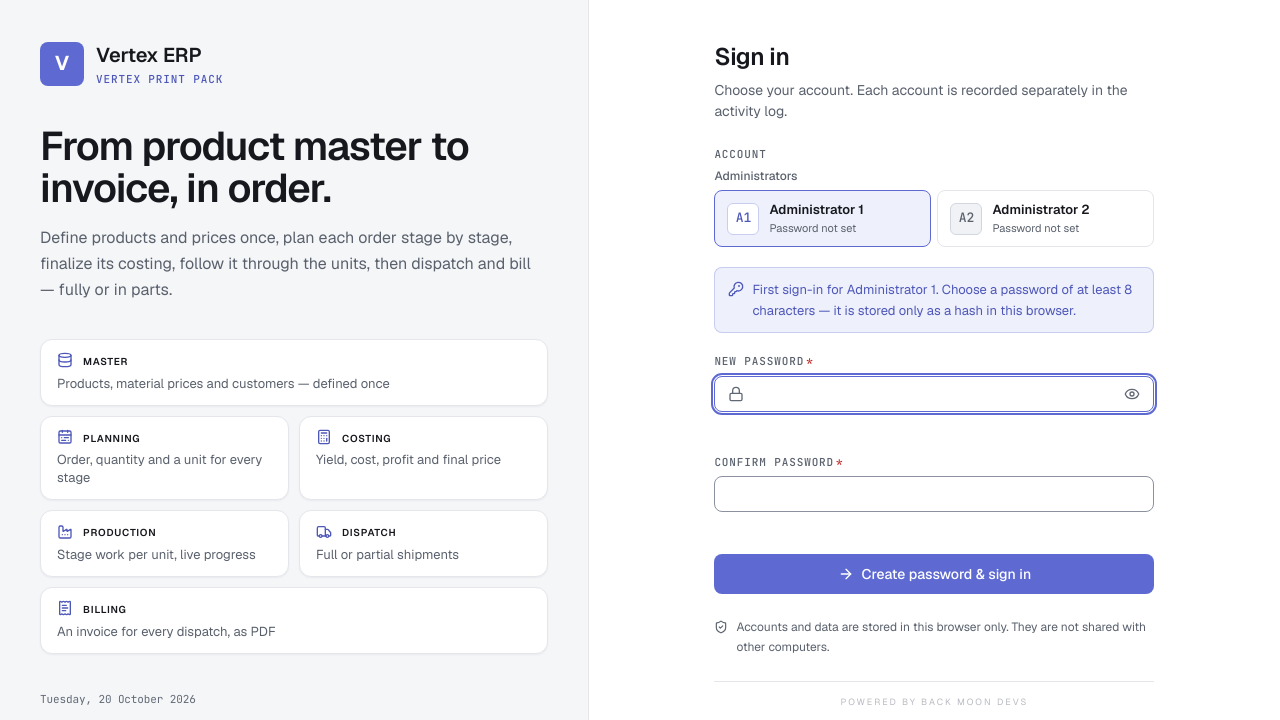
it: sign-in through the real UI › sends a signed-out visitor to sign-in and back to the requested page afterwards
Expected: the heading "Sign in" is shown, [714,41,789,72]
Click the radio button labelled "A1 Administrator 1 Password not set" at (823, 219), box [714,190,931,247]
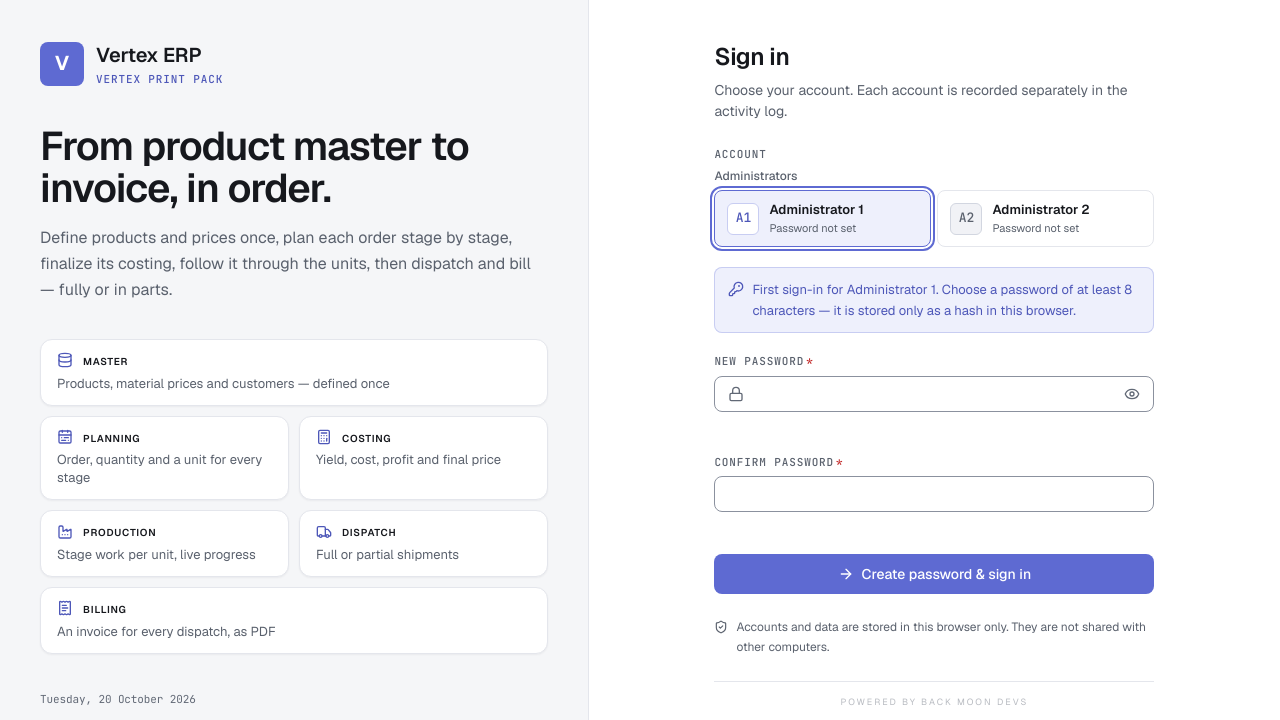
Type "disposable-test-pass-1" into the password field labelled "New password*" at (934, 394), box [714,376,1154,412]
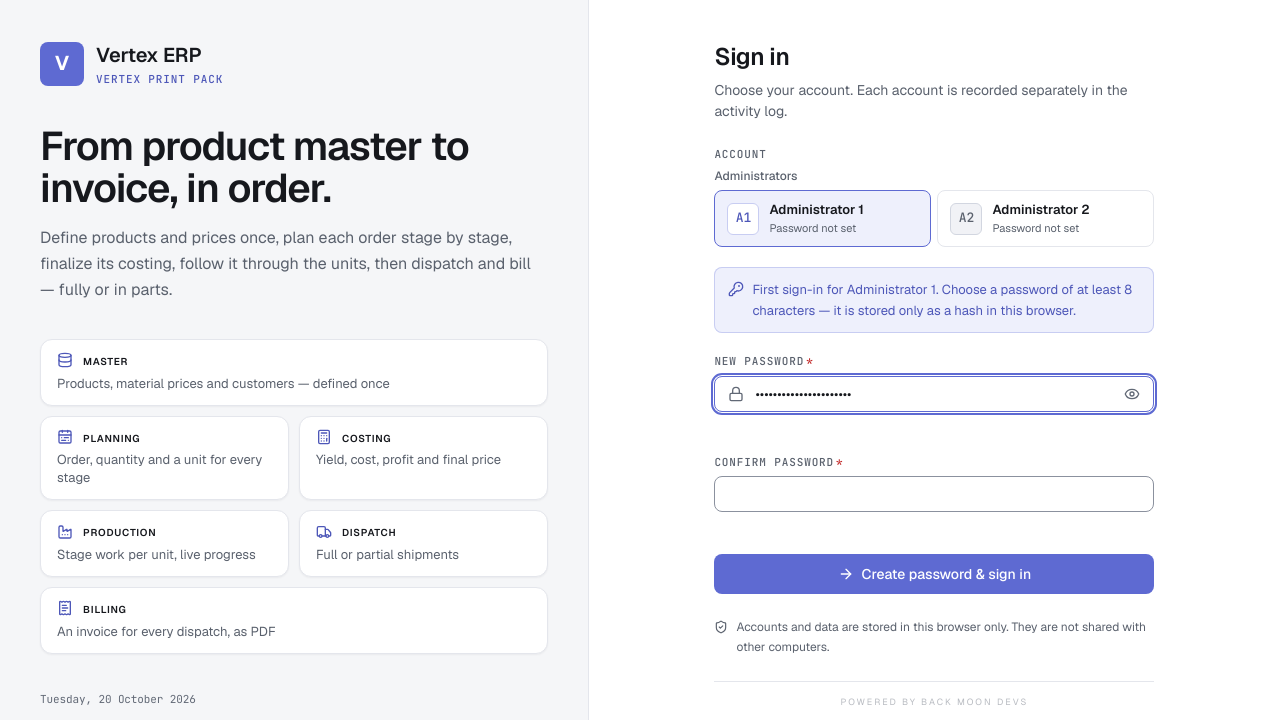
Type "disposable-test-pass-1" into the password field labelled "Confirm password*" at (934, 494), box [714,476,1154,512]
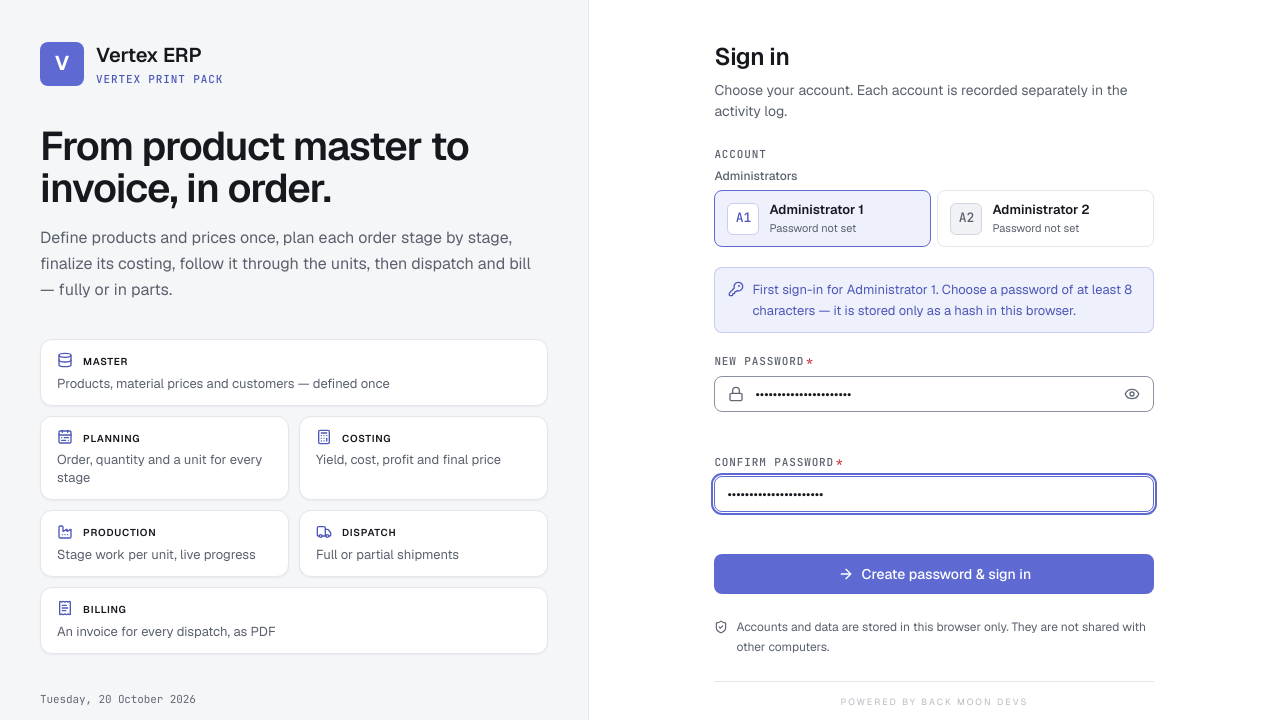
Click the button "Create password & sign in" at (934, 574), box [714,554,1154,594]
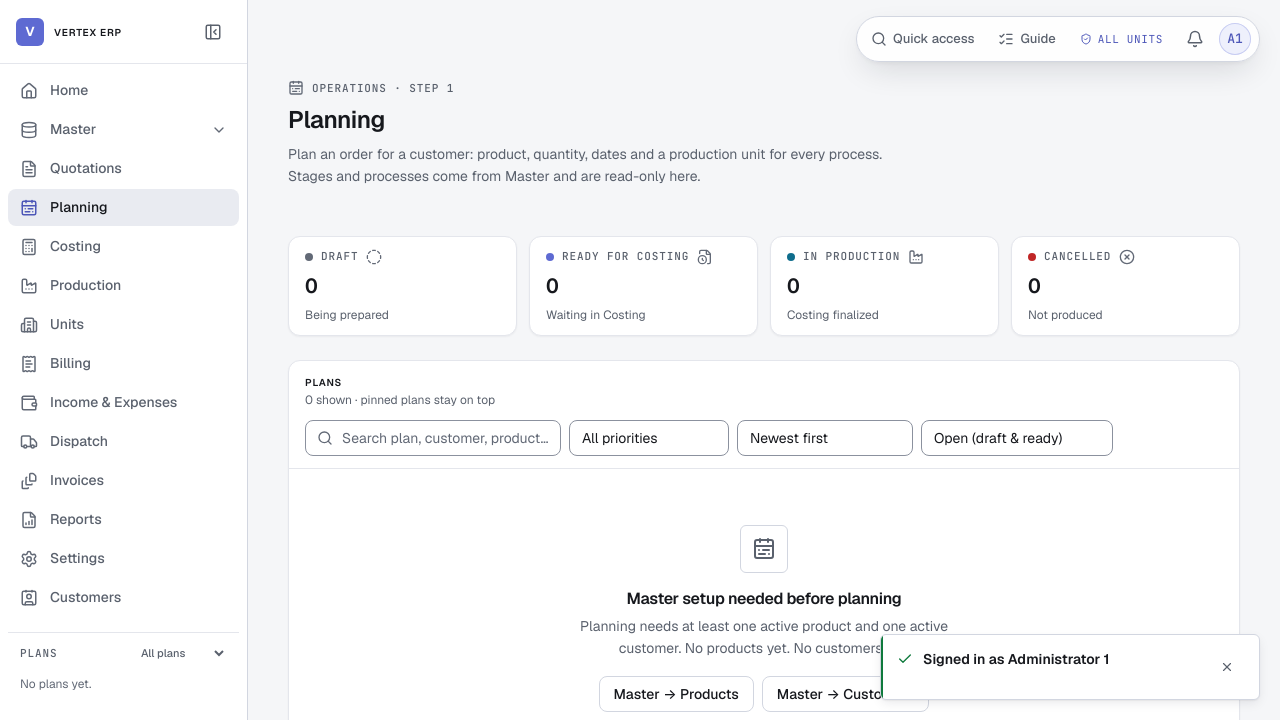
Now the heading "Planning" is shown, box [288,104,385,134]
